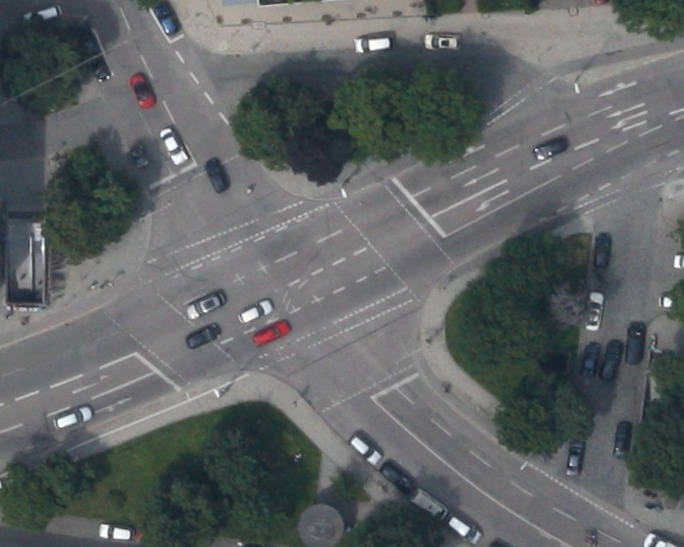car: (378, 459, 416, 495), (182, 289, 226, 320), (410, 488, 449, 522), (156, 124, 188, 165), (444, 512, 482, 545), (50, 403, 94, 431), (250, 318, 291, 347), (598, 337, 623, 381), (22, 1, 62, 28), (151, 0, 180, 37), (531, 134, 568, 162), (348, 434, 381, 465), (184, 322, 220, 350), (235, 298, 272, 325), (202, 157, 229, 194), (128, 72, 154, 110), (624, 320, 646, 363), (611, 418, 632, 459), (584, 290, 604, 331), (96, 522, 134, 542), (564, 438, 584, 476), (353, 34, 391, 53), (579, 343, 600, 377), (591, 231, 610, 267), (423, 32, 460, 50), (88, 55, 110, 82), (128, 143, 149, 169)
